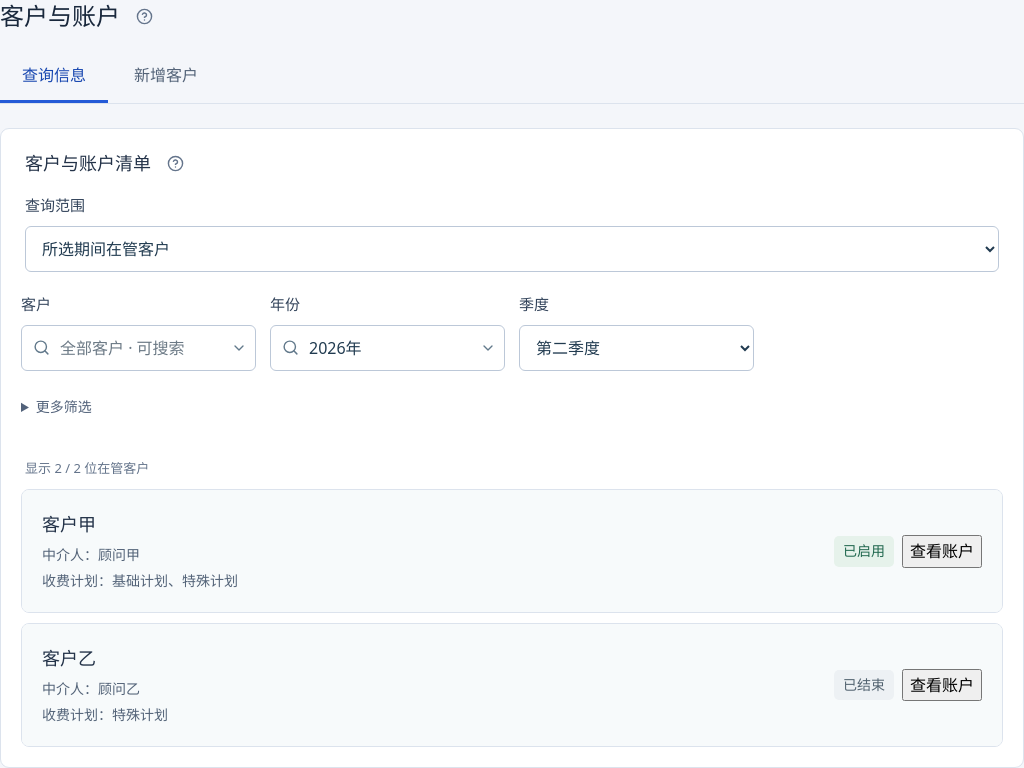
Test: 期间客户按实际子账户去重，已结束账户及无账单客户计入，缺日期和Draft不计入
Expected: the text "客户甲" is shown, [42, 512, 96, 536]
Expected: the text "客户乙" is shown, [42, 646, 96, 670]
What coordinates should you click on to do the following:
click the button "查看账户" next to "已启用"
I would click on:
 (942, 551)
Its box is [902, 535, 982, 568].
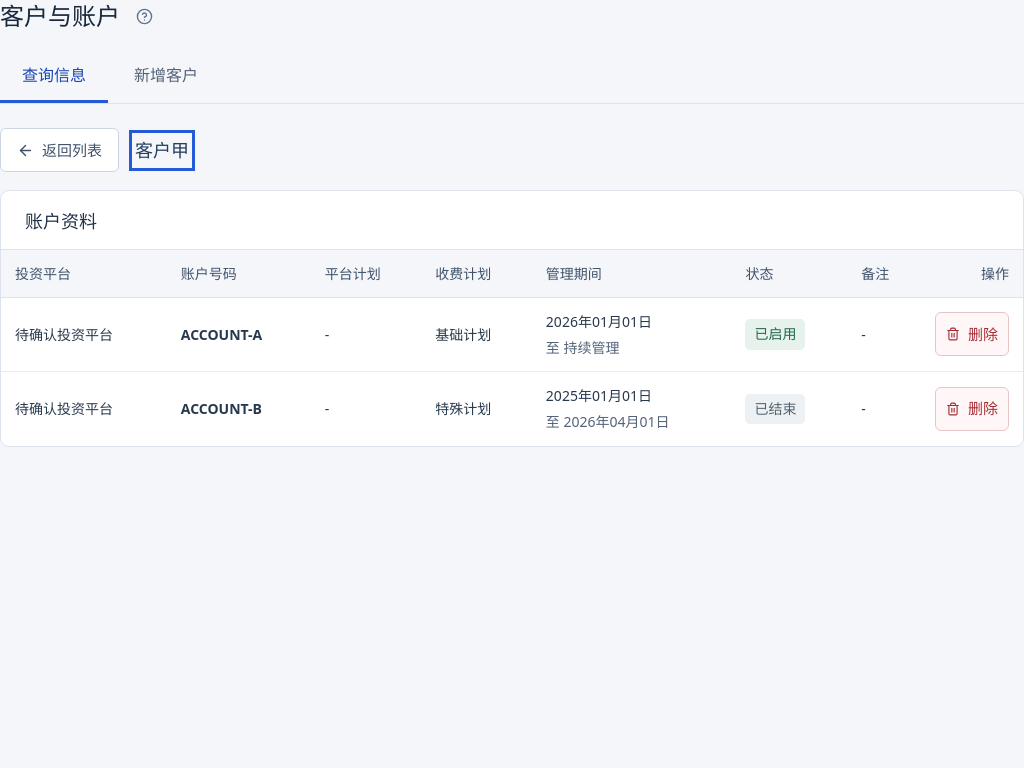
Expected: the text "2025年01月01日" is shown, [546, 386, 652, 405]
Expected: the text "至 2026年04月01日" is shown, [546, 412, 670, 431]
